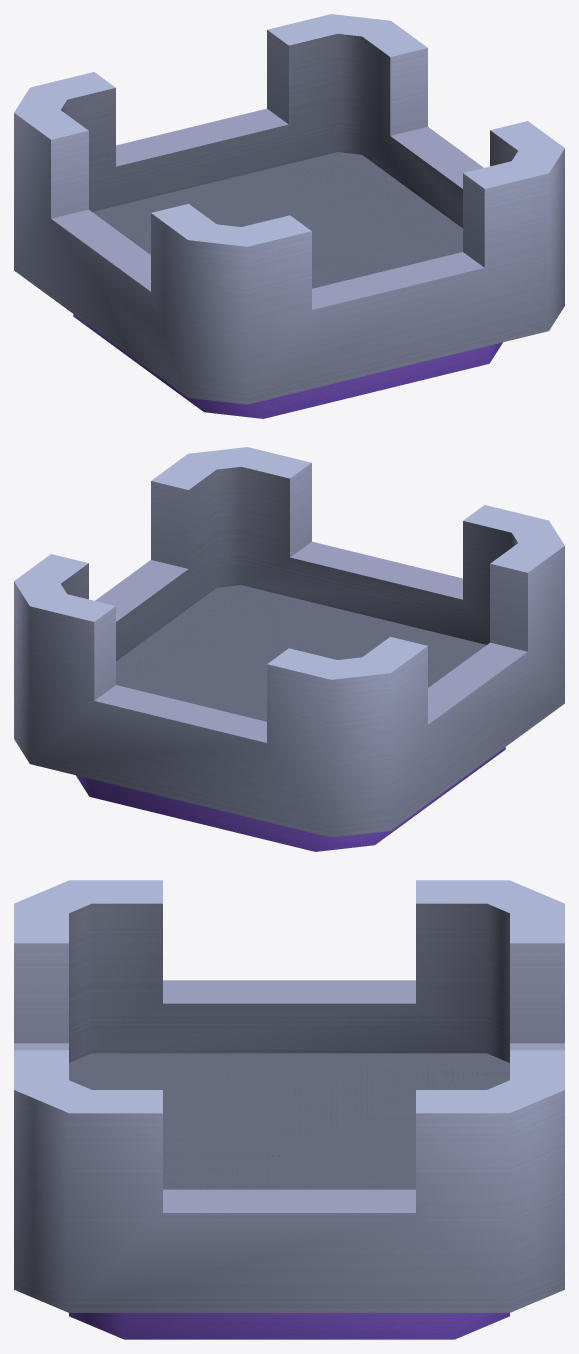
The model's file is tower-defense-kit--tower-square-middle-c.glb.
3 views of the same model, one above another, from view 1: azimuth 30°, elevation 25°; view 2: azimuth 150°, elevation 25°; view 3: azimuth 270°, elevation 25° (orthographic). The views are drawn at different scales.
Visible parts, largest first — view 1: tower-square-middle-c; view 2: tower-square-middle-c; view 3: tower-square-middle-c.
Boxes of the visible parts, x1,y1,x2,y2 form: tower-square-middle-c: (14, 14, 564, 418); tower-square-middle-c: (14, 447, 564, 851); tower-square-middle-c: (14, 880, 564, 1339).
Size of the model in its own units: 1 by 0.5 by 1.
1 material, 1 textured.
